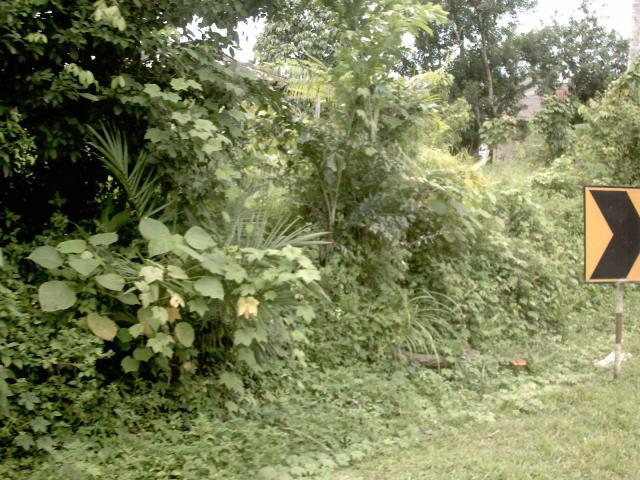traffic_sign: (573, 171, 640, 302)
